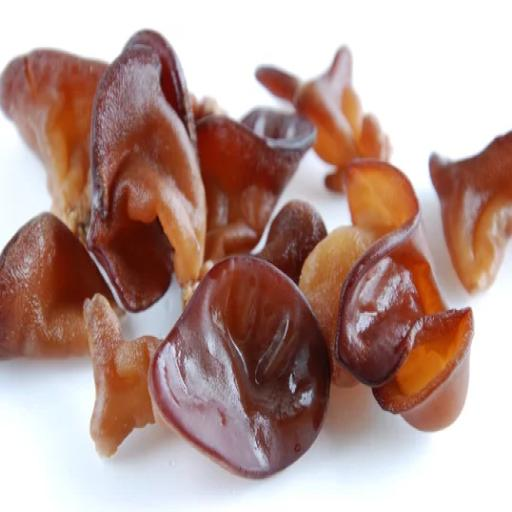Wood Ear Mushroom: (0, 15, 512, 495)
